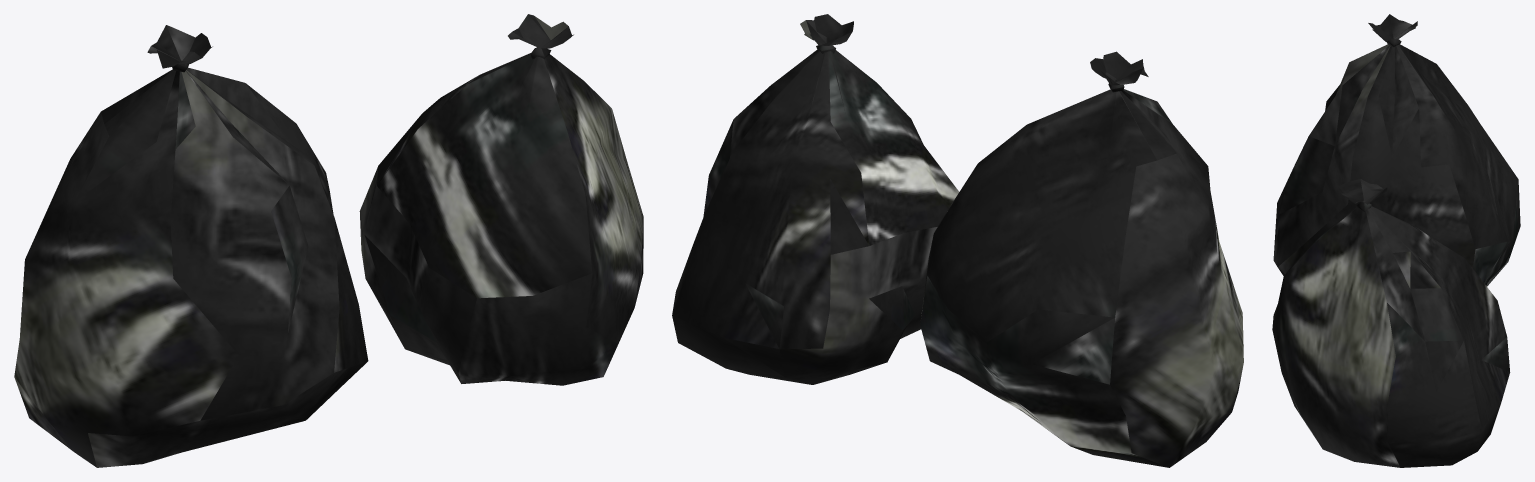
The model's file is Garbage_bag.FBX.
The picture shows the model from 3 angles, left to right: view 1: azimuth 30°, elevation 25°; view 2: azimuth 150°, elevation 25°; view 3: azimuth 270°, elevation 25°; orthographic projection. The views are drawn at different scales.
Parts seen in each view (by area): view 1: garbage can_01, garbage can _02; view 2: garbage can_01, garbage can _02; view 3: garbage can _02, garbage can_01.
Boxes of the visible parts, x1=… form: garbage can_01: x1=14, y1=25, x2=368, y2=467; garbage can _02: x1=359, y1=14, x2=643, y2=385; garbage can_01: x1=920, y1=51, x2=1243, y2=467; garbage can _02: x1=672, y1=14, x2=958, y2=384; garbage can _02: x1=1272, y1=179, x2=1510, y2=467; garbage can_01: x1=1273, y1=14, x2=1520, y2=286.
Size of the model in its own units: 76.1 by 51.06 by 37.24.
